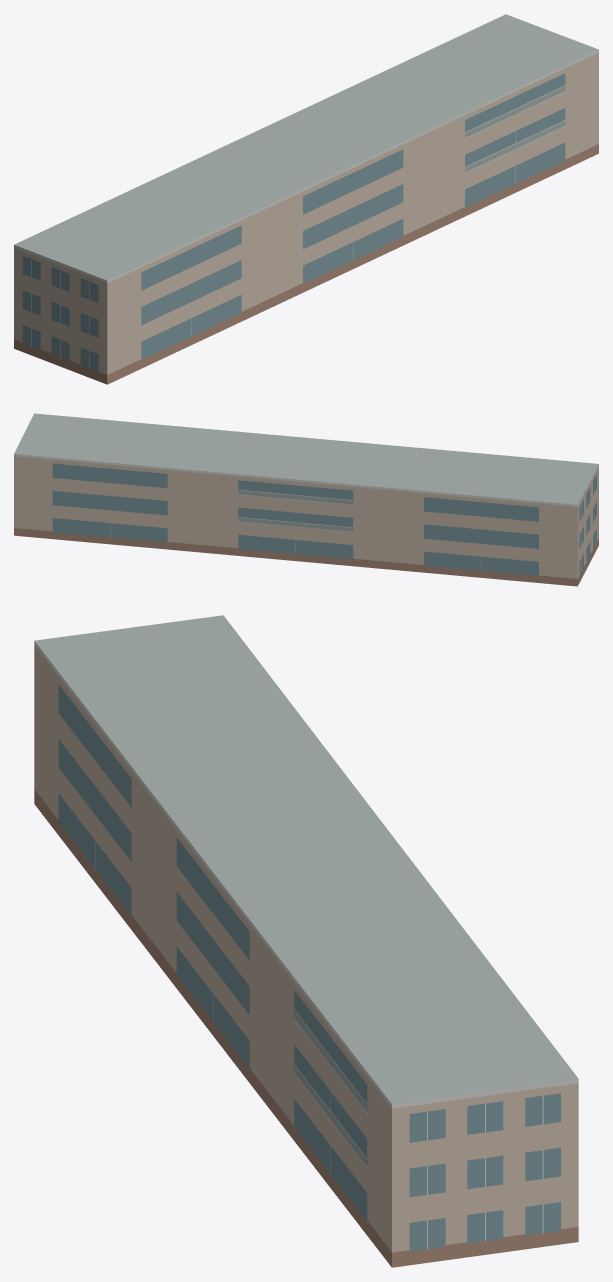
The model's file is survey-upis-32518410.glb.
3 views of the same model, one above another, from view 1: azimuth 30°, elevation 25°; view 2: azimuth 150°, elevation 25°; view 3: azimuth 270°, elevation 25° (orthographic). The views are drawn at different scales.
Visible parts, largest first — view 1: survey-upis-32518410.tmp; view 2: survey-upis-32518410.tmp; view 3: survey-upis-32518410.tmp.
Boxes of the visible parts, left/top/right/bottom form: survey-upis-32518410.tmp: left=14, top=14, right=598, bottom=384; survey-upis-32518410.tmp: left=14, top=413, right=598, bottom=586; survey-upis-32518410.tmp: left=34, top=615, right=578, bottom=1267.
Bounding box in the file's own units: 58.78 × 9.15 × 27.64.
